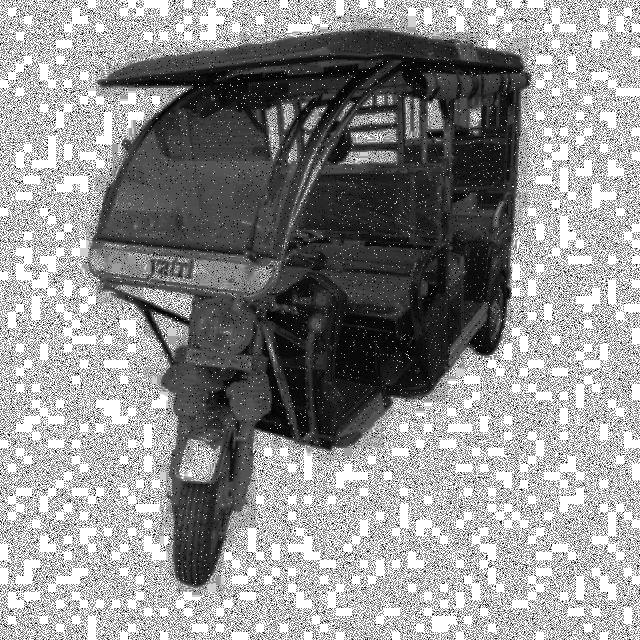Toto: (100, 26, 530, 586)
